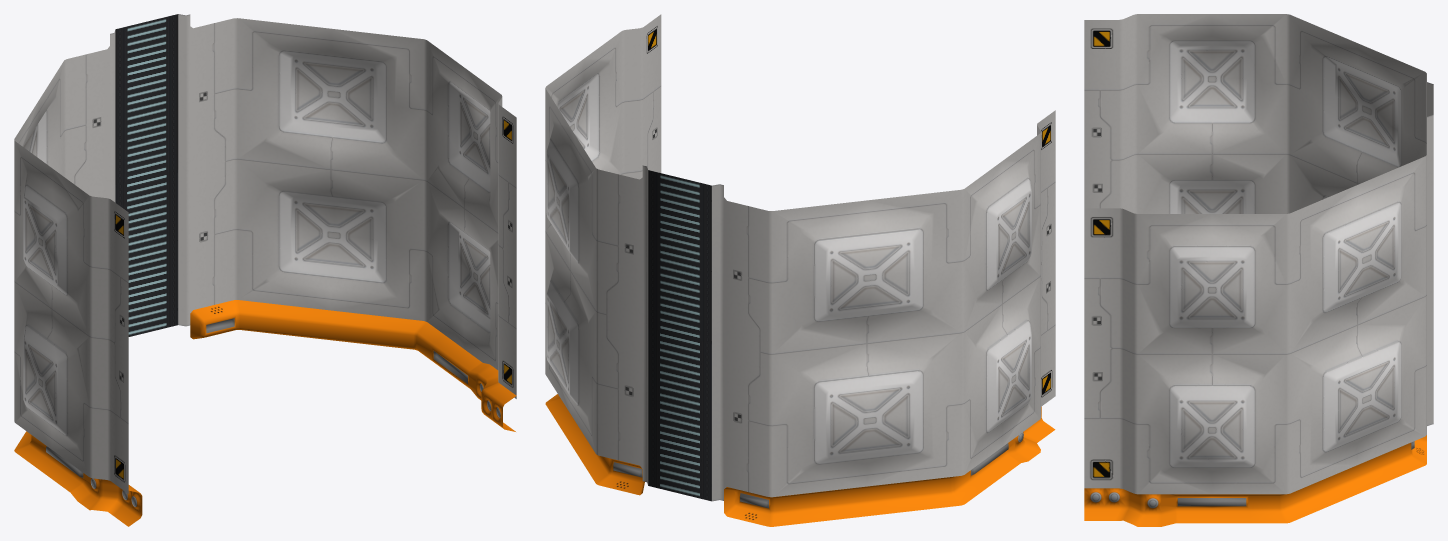
The model's file is Elevator_shaft.fbx.
The picture shows the model from 3 angles, left to right: view 1: azimuth 30°, elevation 25°; view 2: azimuth 150°, elevation 25°; view 3: azimuth 270°, elevation 25°; orthographic projection. The views are drawn at different scales.
Visible parts, largest first — view 1: Elevator_shaft; view 2: Elevator_shaft; view 3: Elevator_shaft.
Part boxes in pixels (x1,y1,x2,y2): Elevator_shaft: (14,14,516,526); Elevator_shaft: (545,14,1055,526); Elevator_shaft: (1084,14,1433,526).
Size of the model in its own units: 585 by 423 by 410.
1 material, 1 textured.
